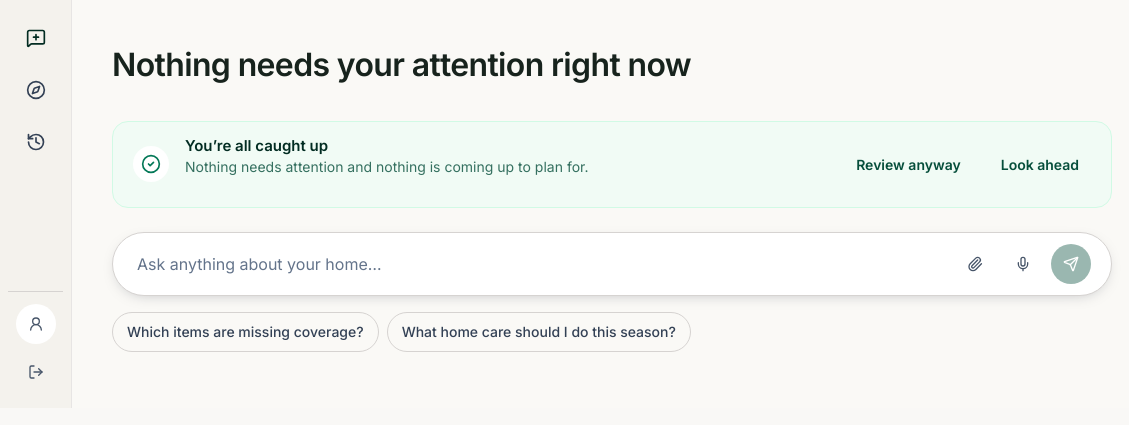
Test: AskWorkspace Explore with Cozy wiring › the collapsed rail button opens the first topic without sending anything
Click the button named "Explore with Cozy" at (36, 90), box [14,68,58,112]
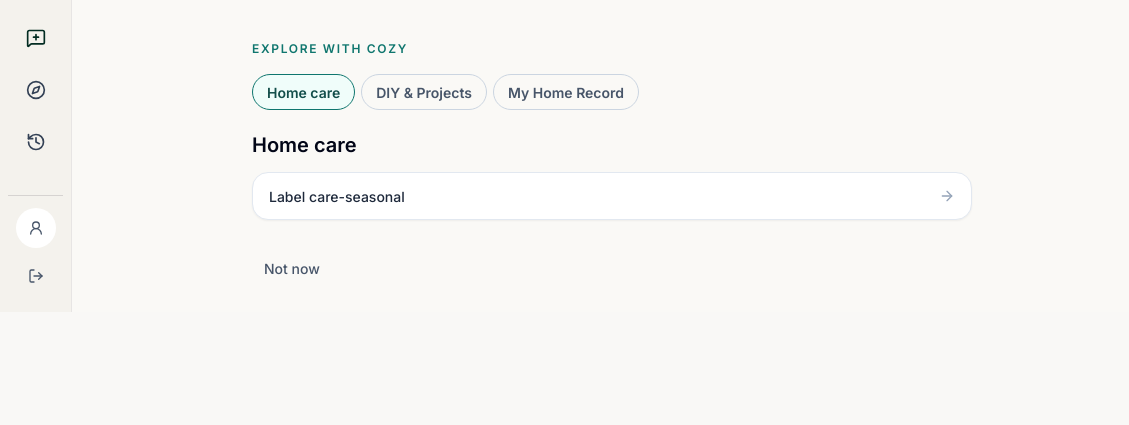
Check: the heading "Home care" is shown, box [252,133,357,157]
